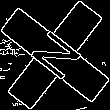N_SE: (22, 24, 88, 86)
